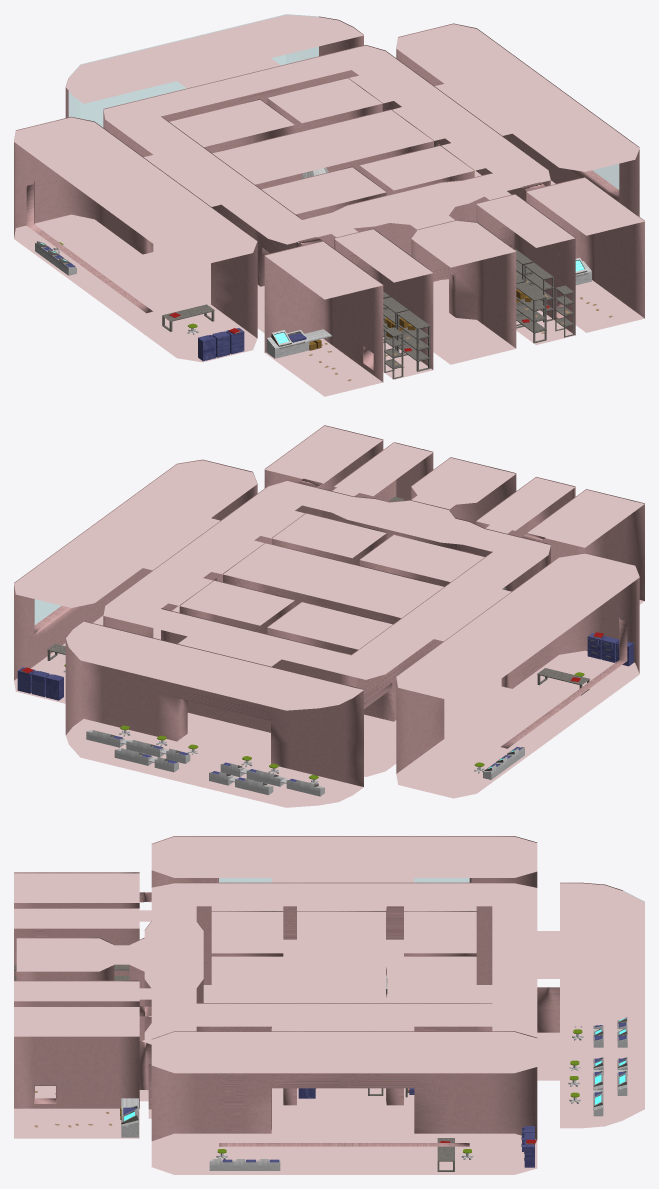
The model's file is SHIP 23.gltf.
3 renders of one model, top to bottom at view 1: azimuth 30°, elevation 25°; view 2: azimuth 150°, elevation 25°; view 3: azimuth 270°, elevation 25°, orthographic. The views are drawn at different scales.
Parts seen in each view (by area): view 1: roof, ship_body (×6); view 2: roof, ship_body (×5); view 3: roof, ship_body (×6).
Boxes of the visible parts, x1=… form: roof: x1=14, y1=14, x2=644, y2=299; ship_body (×6): x1=14, y1=14, x2=644, y2=396; roof: x1=14, y1=426, x2=644, y2=710; ship_body (×5): x1=14, y1=425, x2=644, y2=807; roof: x1=14, y1=836, x2=644, y2=1073; ship_body (×6): x1=14, y1=836, x2=644, y2=1174.
Bounding box in the file's own units: 0.2572 × 0.053 × 0.2793.
